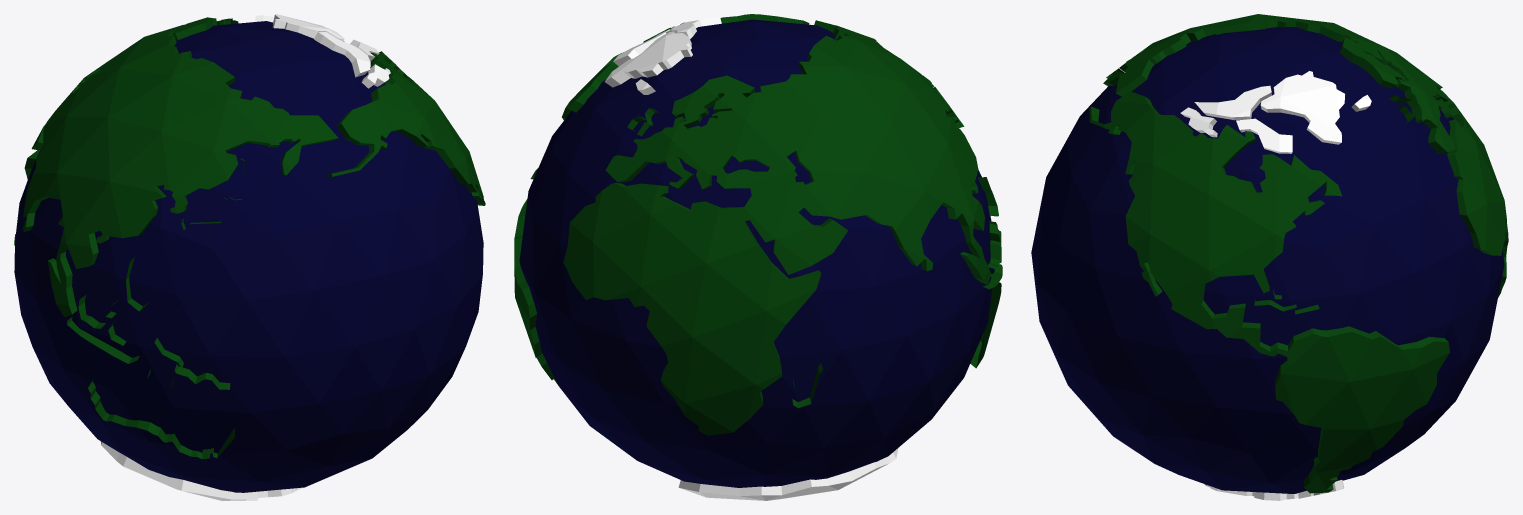
File: LowPolyEarth2.obj
3 renders of one model, left to right at view 1: azimuth 30°, elevation 25°; view 2: azimuth 150°, elevation 25°; view 3: azimuth 270°, elevation 25°, orthographic.
Parts seen in each view (by area): view 1: Icosphere, Icosphere.001_Icosphere.002; view 2: Icosphere.001_Icosphere.002, Icosphere; view 3: Icosphere, Icosphere.001_Icosphere.002.
Boxes of the visible parts, x1,y1,x2,y2 form: Icosphere: (14, 21, 483, 492); Icosphere.001_Icosphere.002: (14, 14, 485, 500); Icosphere.001_Icosphere.002: (514, 14, 1002, 500); Icosphere: (519, 19, 994, 487); Icosphere: (1031, 27, 1504, 493); Icosphere.001_Icosphere.002: (1089, 14, 1508, 500).
Bounding box in the file's own units: 2.11 × 2.08 × 2.07.
